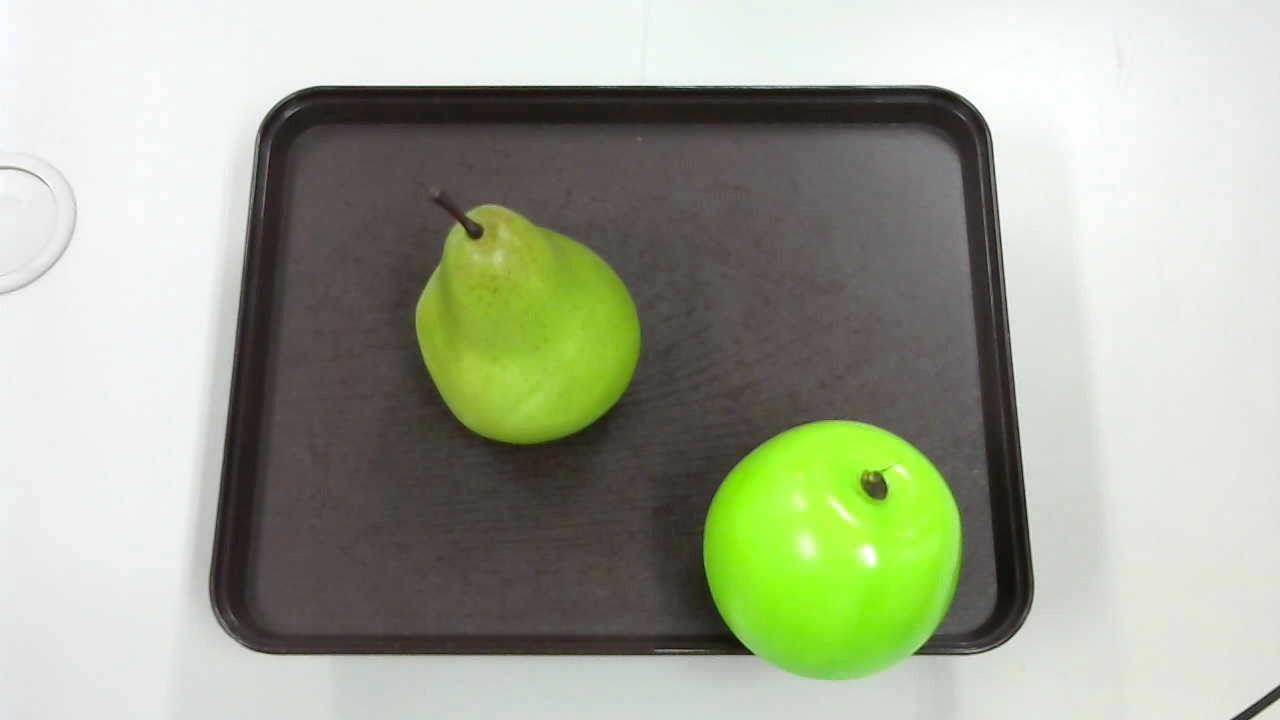green apple: (698, 420, 963, 679)
green pear: (410, 183, 644, 446)
